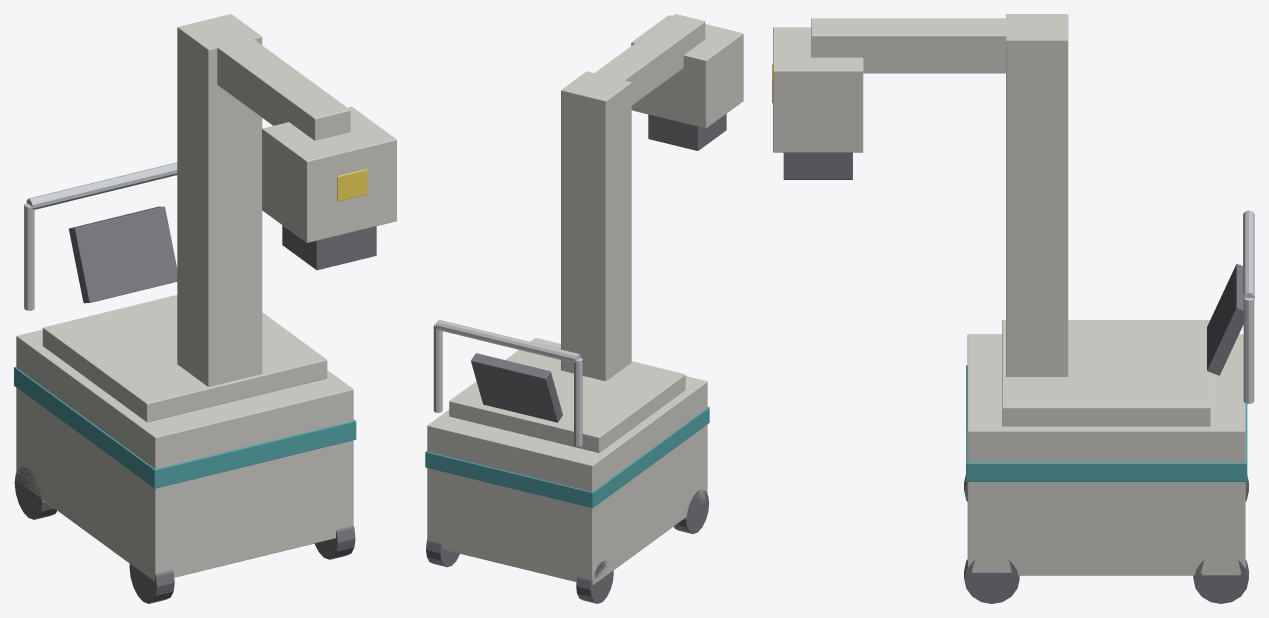
The model's file is mobile_xray.glb.
3 renders of one model, left to right at view 1: azimuth 30°, elevation 25°; view 2: azimuth 150°, elevation 25°; view 3: azimuth 270°, elevation 25°, orthographic. The views are drawn at different scales.
Parts seen in each view (by area): view 1: mobile_xray; view 2: mobile_xray; view 3: mobile_xray.
Part boxes in pixels (x1=…): mobile_xray: x1=14, y1=14, x2=396, y2=603; mobile_xray: x1=425, y1=14, x2=743, y2=603; mobile_xray: x1=772, y1=14, x2=1254, y2=603.
Size of the model in its own units: 0.67 by 1.68 by 1.39.
